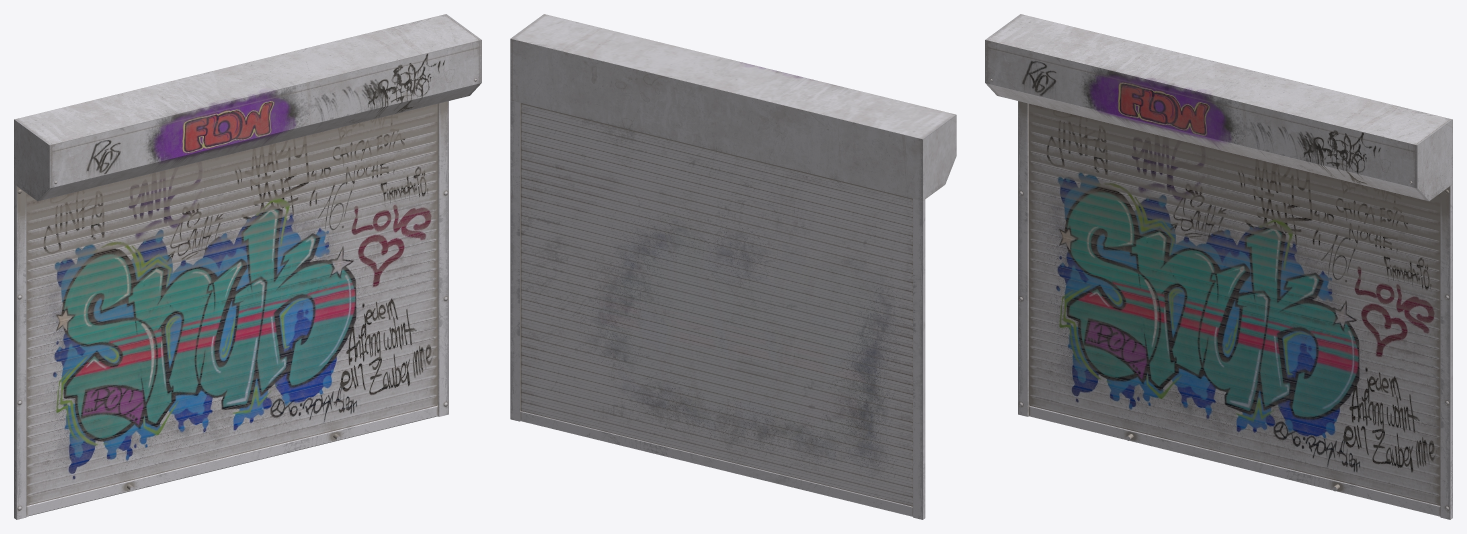
File: rollershutter-window.glb
The picture shows the model from 3 angles, left to right: view 1: azimuth 30°, elevation 25°; view 2: azimuth 150°, elevation 25°; view 3: azimuth 330°, elevation 25°; orthographic projection. The views are drawn at different scales.
Parts seen in each view (by area): view 1: rollershutter_window_01_graffiti; view 2: rollershutter_window_01_graffiti; view 3: rollershutter_window_01_graffiti.
Boxes of the visible parts, x1,y1,x2,y2 form: rollershutter_window_01_graffiti: [14, 14, 481, 519]; rollershutter_window_01_graffiti: [510, 14, 956, 519]; rollershutter_window_01_graffiti: [985, 14, 1452, 519].
Size of the model in its own units: 2.1 by 1.85 by 0.3001.
Materials: 1 (1 with a texture image).
